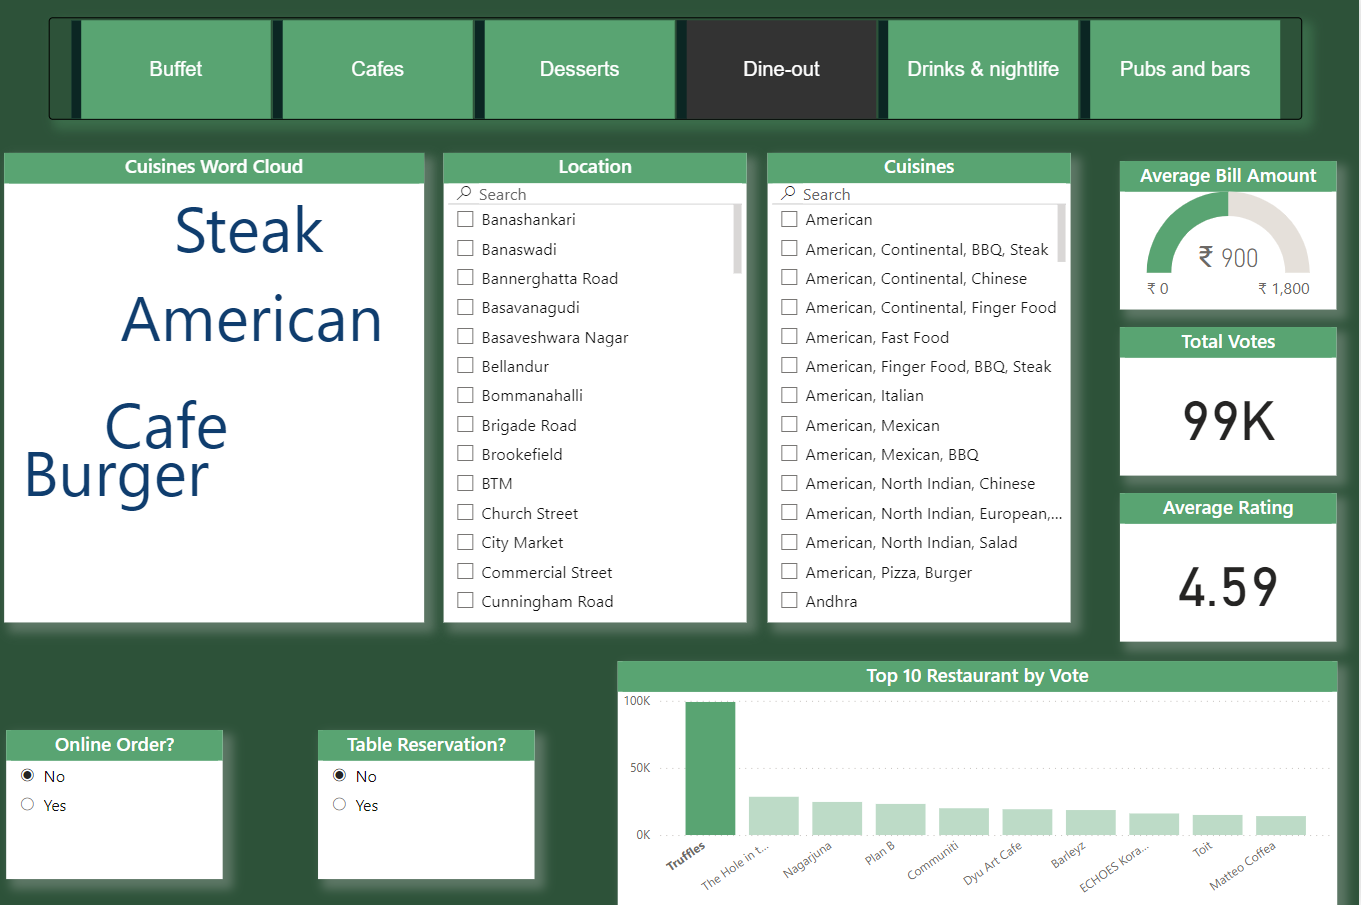

The dashboard page shown, as its layout file describes it:
{"tool":"powerbi","page":{"name":"Report","canvas":[1350,900],"ordinal":0},"visuals":[{"type":"gauge","title":"Average Bill Amount","fields":{"Y":["Avg(zomato.approx_cost(for two people))"]},"box":[1113.3,163.7,213.9,146.7],"z":2000},{"type":"card","title":"Total Votes","fields":{"Values":["Sum(zomato.votes)"]},"box":[1113.9,328.7,213.9,146.7],"z":3000},{"type":"card","title":"Average Rating","fields":{"Values":["Avg(zomato.rate)"]},"box":[1114.6,491.2,213.9,146.7],"z":4000},{"type":"columnChart","title":"Top 10 Restaurant by Vote","fields":{"Category":["zomato.name"],"Y":["Sum(zomato.votes)"]},"box":[617.2,657.3,710.8,242.7],"z":5000},{"type":"slicer","title":"Table Reservation?","fields":{"Values":["zomato.book_table"]},"box":[321,726.1,214,147],"z":6000},{"type":"slicer","title":"Online Order?","fields":{"Values":["zomato.online_order"]},"box":[13.4,726.1,214,147.1],"z":7000},{"type":"slicer","title":"Cuisines","fields":{"Values":["zomato.cuisines"]},"box":[765.3,156.1,299.3,463.9],"z":8000},{"type":"slicer","title":"Location","fields":{"Values":["zomato.location"]},"box":[446.8,156.1,299.3,463.9],"z":9000},{"type":"WordCloud1447959067750","title":"Cuisines Word Cloud","fields":{"Category":["zomato.cuisines"]},"box":[12.8,156.1,414.7,463.9],"z":10000},{"type":"slicer","title":"Restaurant Type","fields":{"Values":["zomato.listed_in(type)"]},"box":[55.9,21,1238.2,101.3],"z":10500}]}

Visuals, with their boxes in screenshot pixels (x1, y1, x2, y2), scaled from the page's 1350x900 canvas onto the 1361x905 screenshot:
"Average Bill Amount" gauge: l=1122, t=165, r=1338, b=312
"Total Votes" card: l=1123, t=331, r=1339, b=478
"Average Rating" card: l=1124, t=494, r=1339, b=641
"Top 10 Restaurant by Vote" columnChart: l=622, t=661, r=1339, b=904
"Table Reservation?" slicer: l=324, t=730, r=539, b=878
"Online Order?" slicer: l=14, t=730, r=229, b=878
"Cuisines" slicer: l=772, t=157, r=1073, b=623
"Location" slicer: l=450, t=157, r=752, b=623
"Cuisines Word Cloud" WordCloud1447959067750: l=13, t=157, r=431, b=623
"Restaurant Type" slicer: l=56, t=21, r=1305, b=123
